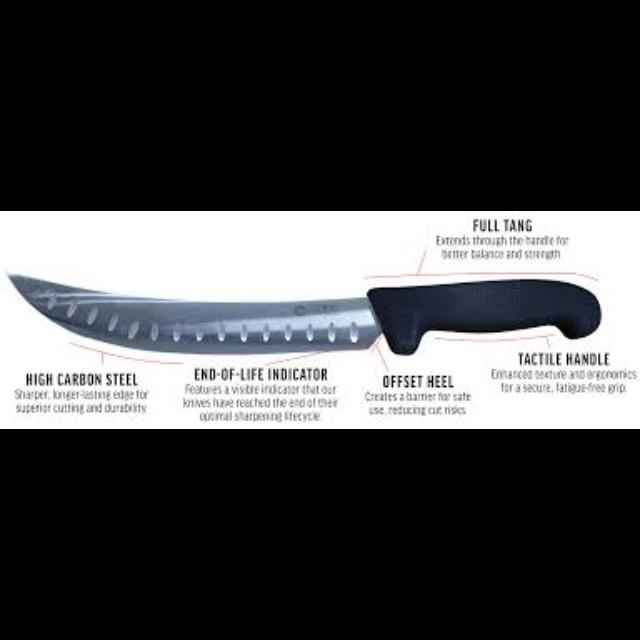Knife: (5, 272, 601, 354)
